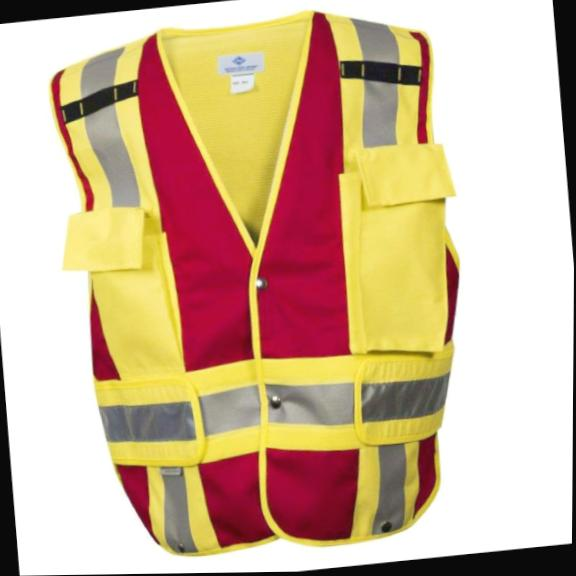safety_vest: (41, 1, 486, 570)
